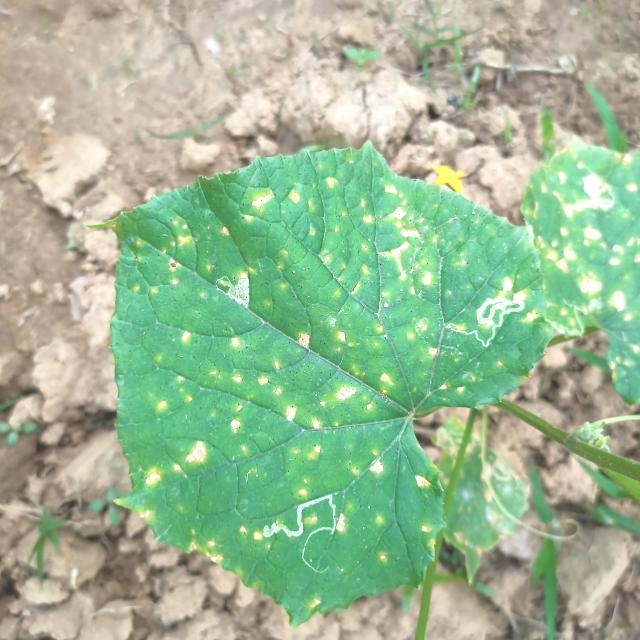disease_cucumber: (133, 172, 516, 554), (540, 155, 640, 333)
